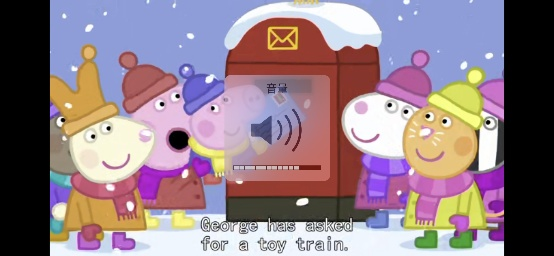Peppa: (117, 53, 208, 232)
